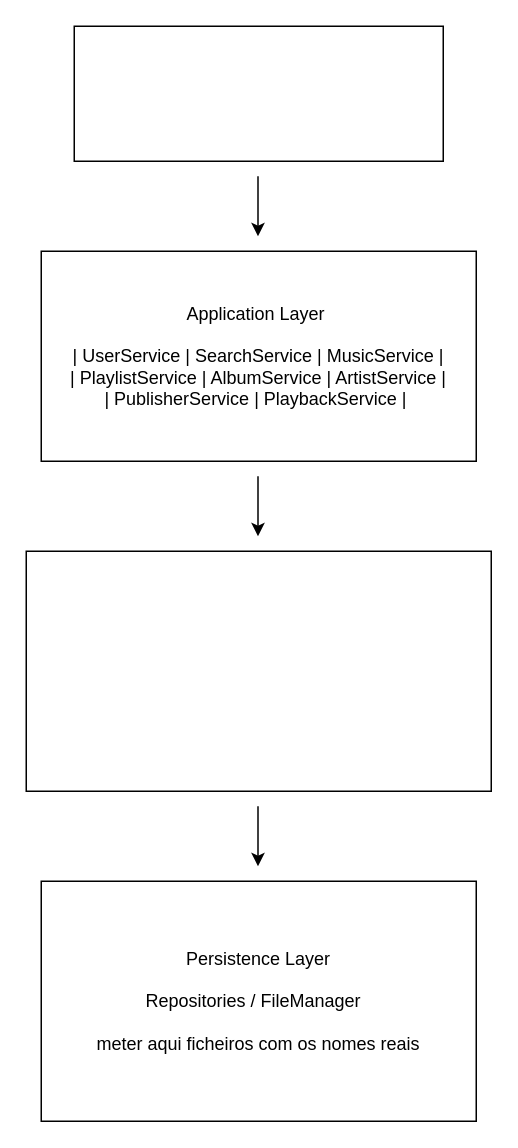
The diagram is 518 pixels wide and 1148 high, and some of its shapes have lost their labels. Here are the shapes that lost their labels. From the top down, the centre of each, then its label:
At [258,93]: "Console Interface Menus, input validation, output formatting".
At [258,670]: "Domain Layer User | Music | Album | Artist | Publisher".
